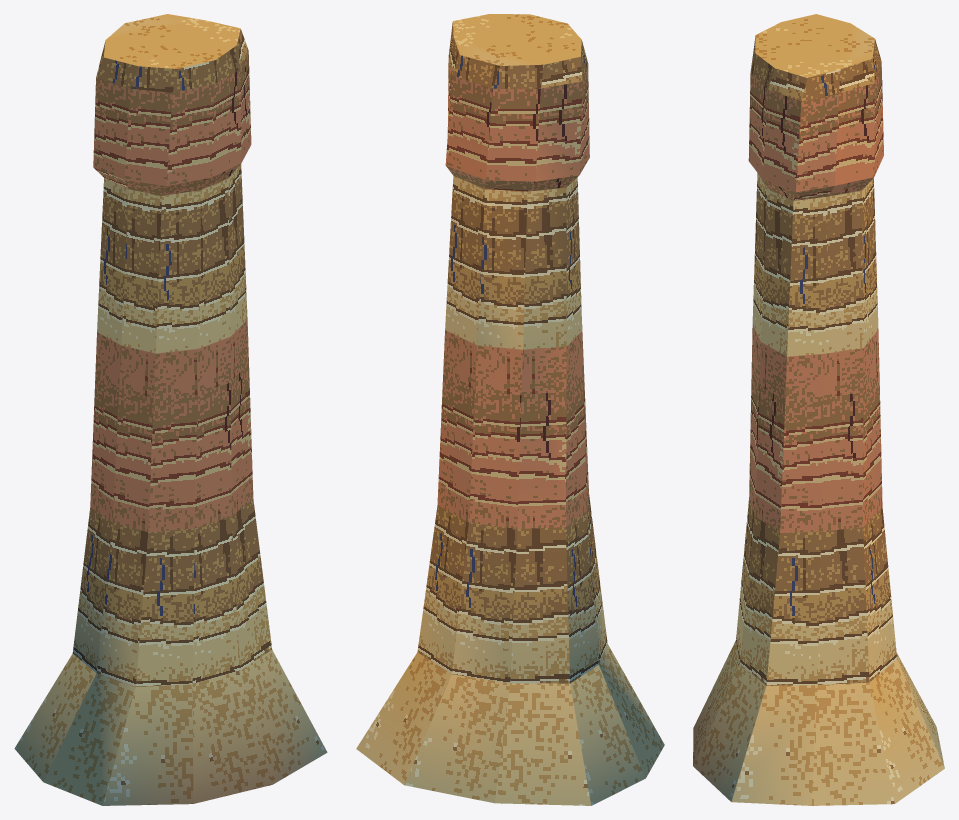
Rendered from wland.butte__slim.glb.
3 views of the same model, side by side, from view 1: azimuth 30°, elevation 25°; view 2: azimuth 150°, elevation 25°; view 3: azimuth 270°, elevation 25° (orthographic).
Visible parts, largest first — view 1: kit_butte; view 2: kit_butte; view 3: kit_butte.
Boxes of the visible parts, bbox=[...] form: kit_butte: bbox=[14, 14, 327, 805]; kit_butte: bbox=[356, 14, 664, 805]; kit_butte: bbox=[693, 14, 944, 805].
Bounding box in the file's own units: 6.69 × 18 × 5.86.
4 materials, 4 textured.
